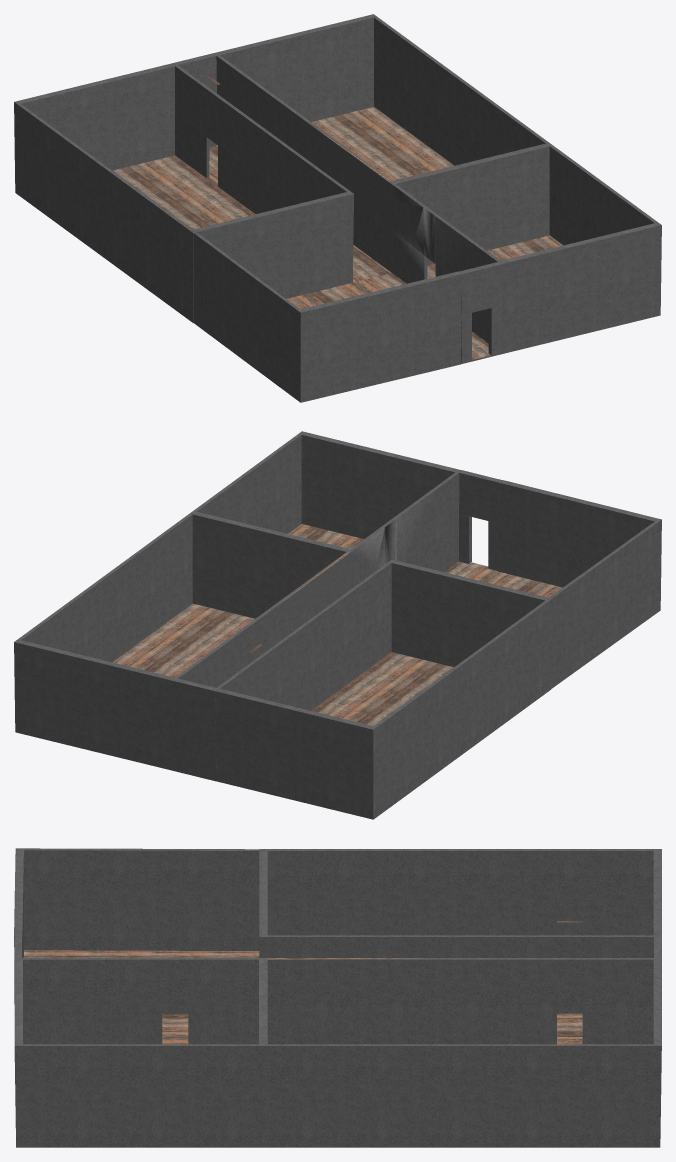
File: room.fbx
3 renders of one model, top to bottom at view 1: azimuth 30°, elevation 25°; view 2: azimuth 150°, elevation 25°; view 3: azimuth 270°, elevation 25°, orthographic. The views are drawn at different scales.
Parts seen in each view (by area): view 1: house.001; view 2: house.001; view 3: house.001.
Boxes of the visible parts, x1,y1,x2,y2 form: house.001: [14, 14, 661, 402]; house.001: [14, 431, 661, 819]; house.001: [14, 848, 661, 1147].
Size of the model in its own units: 36.25 by 9.93 by 50.23.
